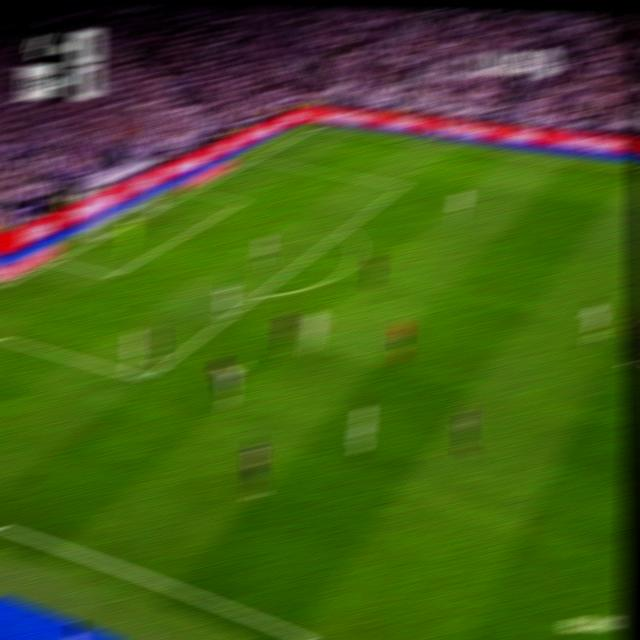bigarea_bottom_inner: (137, 368, 154, 388)
bigarea_top_inner: (395, 178, 407, 191)
bigarea_top_outter: (249, 153, 261, 162)
bottom_arc_area_intersection: (250, 287, 265, 301)
corner: (309, 122, 323, 129)
smallarea_bottom_outter: (51, 254, 63, 265)
smallarea_top_inner: (235, 197, 246, 205)
top_arc_area_intersection: (336, 222, 352, 235)
